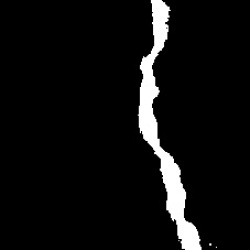crack: (137, 1, 203, 246)
